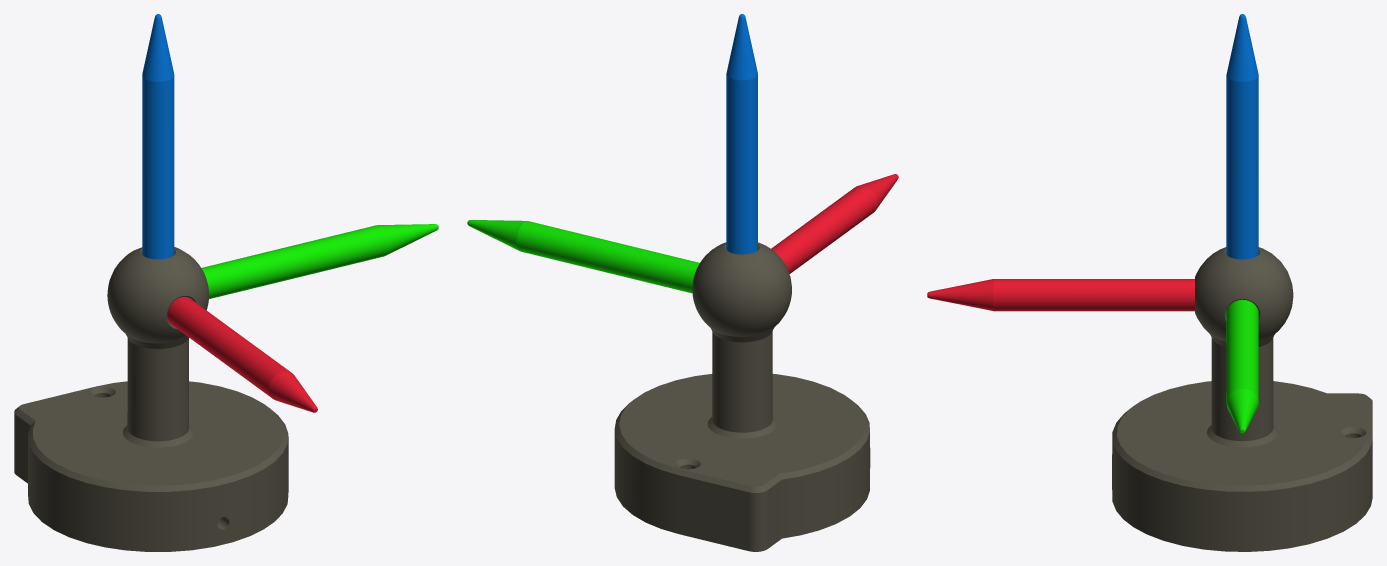
Rendered from gripperXYZ.glb.
The picture shows the model from 3 angles, left to right: view 1: azimuth 30°, elevation 25°; view 2: azimuth 150°, elevation 25°; view 3: azimuth 270°, elevation 25°; orthographic projection. The views are drawn at different scales.
Parts seen in each view (by area): view 1: Body1; view 2: Body1; view 3: Body1.
Boxes of the visible parts, x1,y1,x2,y2 form: Body1: (14,14,438,551); Body1: (467,14,898,551); Body1: (927,14,1372,551).
Bounding box in the file's own units: 0.0956 × 0.1122 × 0.094.
